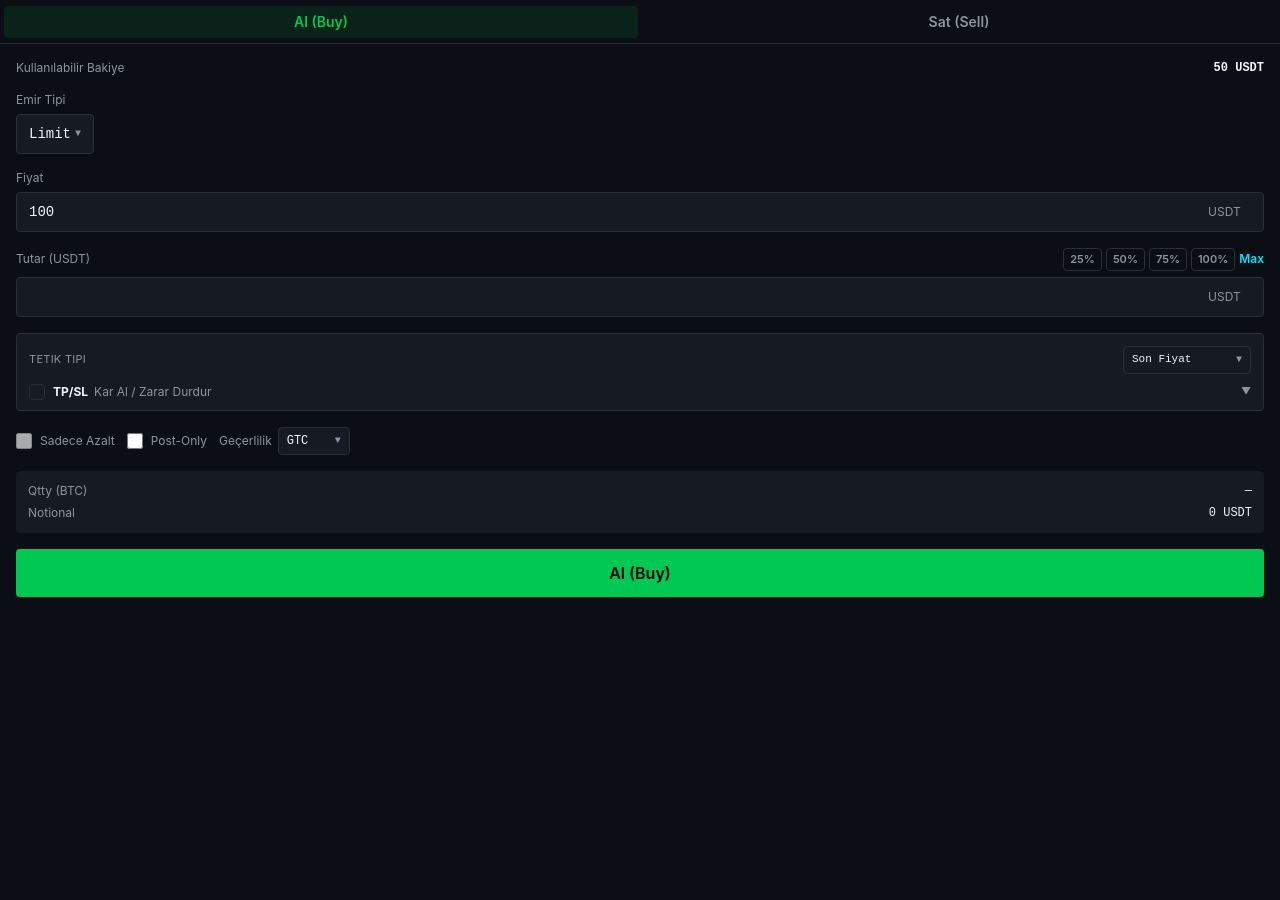
TradingPanel spot mode › rejects a buy beyond the USDT balance
This screenshot has width=1280, height=900.
Step 1. Type "500" into the field named "Order amount" → (640, 296), box top-left (16, 276), bottom-right (1264, 316)
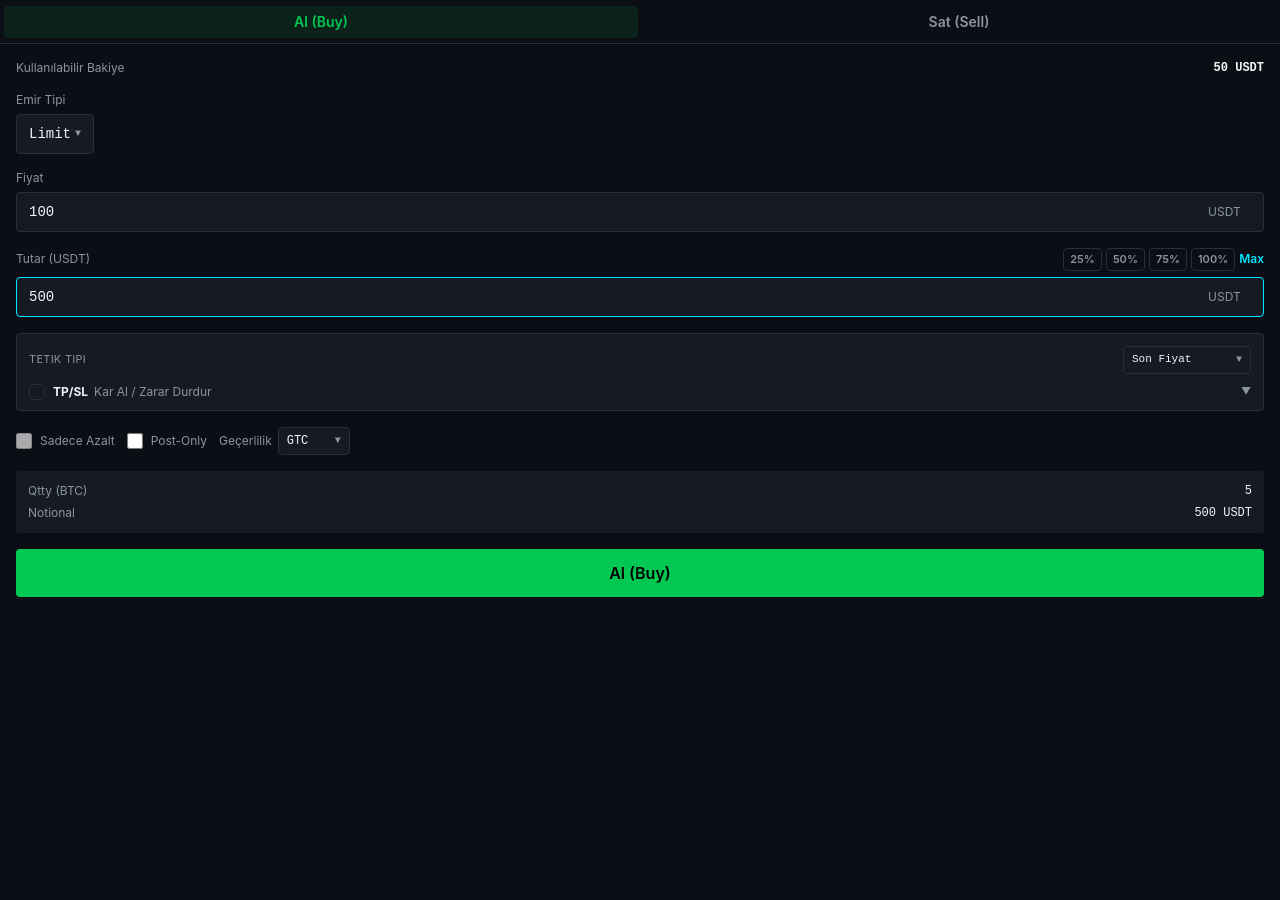
Step 2. Click the button "Al (Buy)" below "Notional" → click(640, 572), box top-left (16, 548), bottom-right (1264, 596)
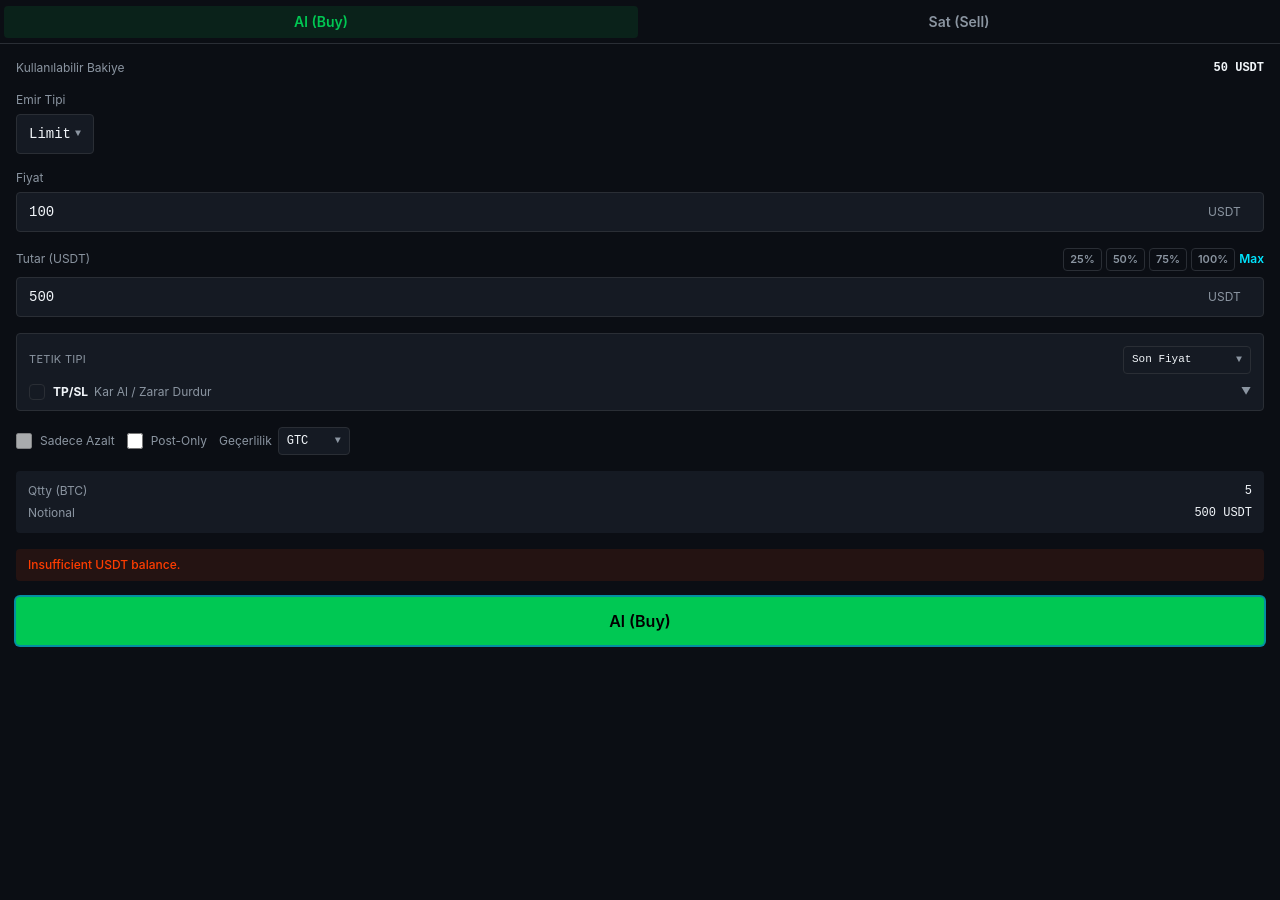
Result: the text "Insufficient USDT balance." is shown at top-left (16, 548), bottom-right (1264, 580)
